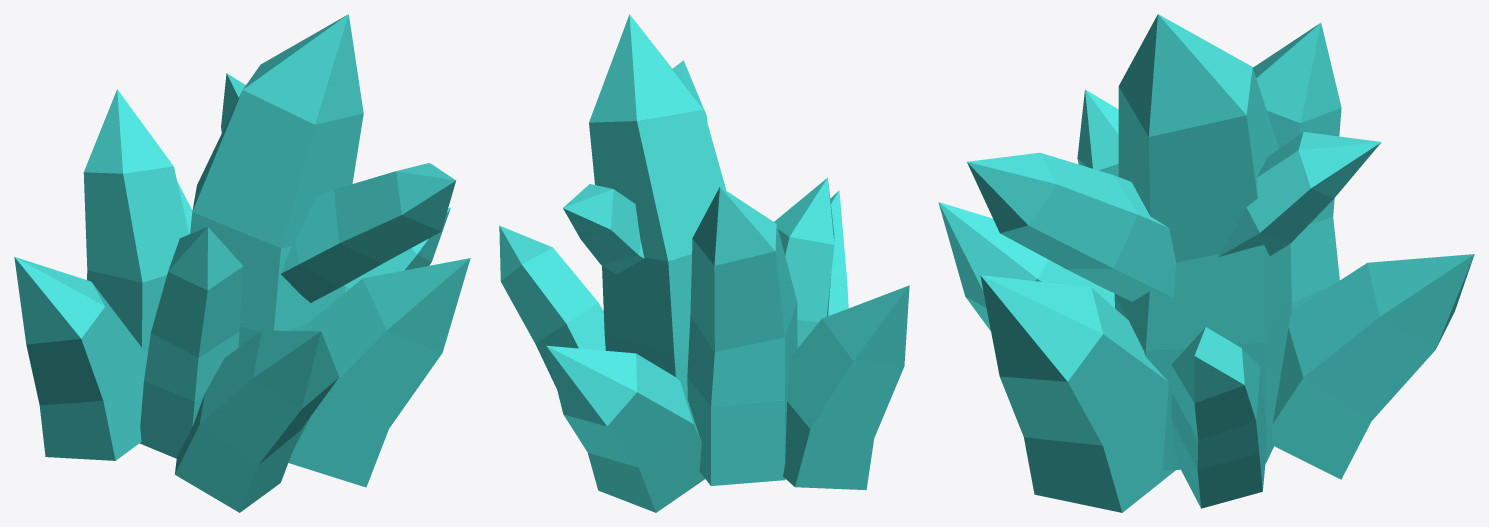
The model's file is Crystal.fbx.
3 renders of one model, left to right at view 1: azimuth 30°, elevation 25°; view 2: azimuth 150°, elevation 25°; view 3: azimuth 270°, elevation 25°, orthographic. The views are drawn at different scales.
Visible parts, largest first — view 1: Cube; view 2: Cube; view 3: Cube.
Boxes of the visible parts, bbox=[...] form: Cube: bbox=[14, 14, 470, 512]; Cube: bbox=[499, 14, 909, 512]; Cube: bbox=[938, 14, 1474, 512].
Bounding box in the file's own units: 321 × 306 × 297.
